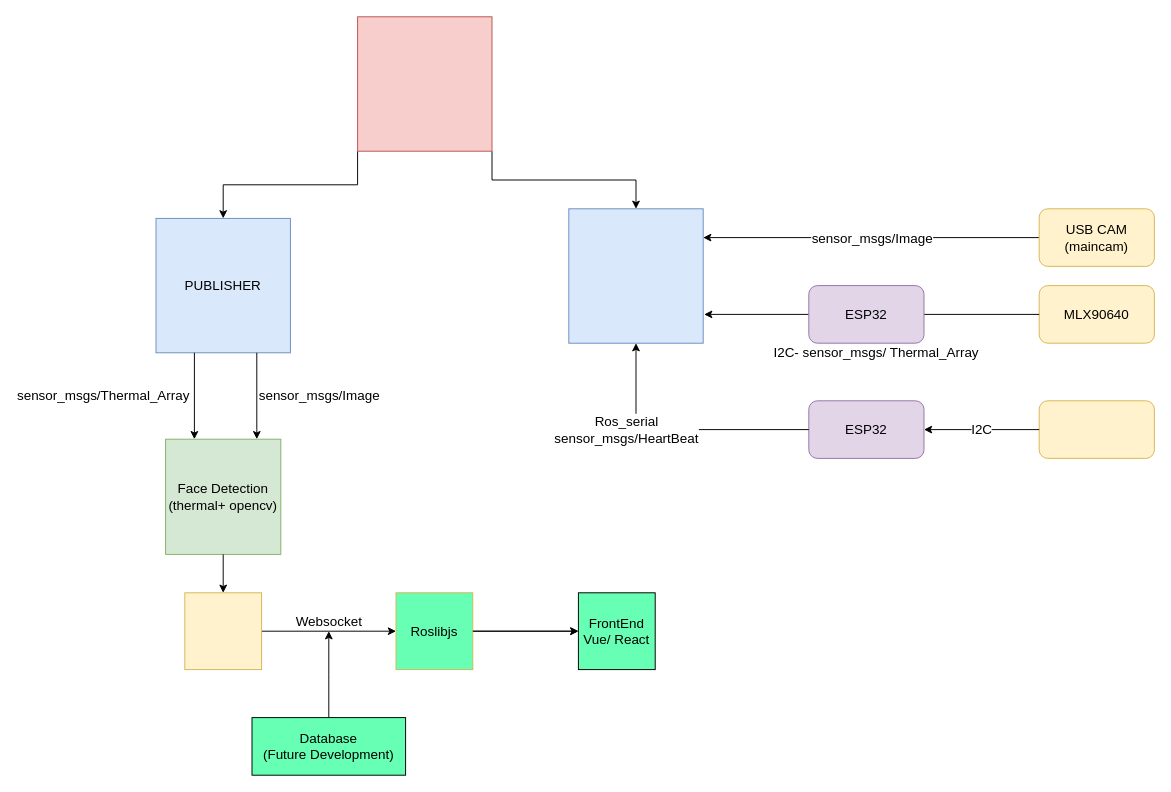
Some shapes in this 1171 by 792 pixel diagram are drawn without their labels. The shapes that lost their labels are listed below. From the top down, each one's centre as x and y in pixels, then its label:
(424,83): Ohmni Robot Docker
(635,275): USB PORT
(1096,429): MAX30102
(223,631): Rosbridge
